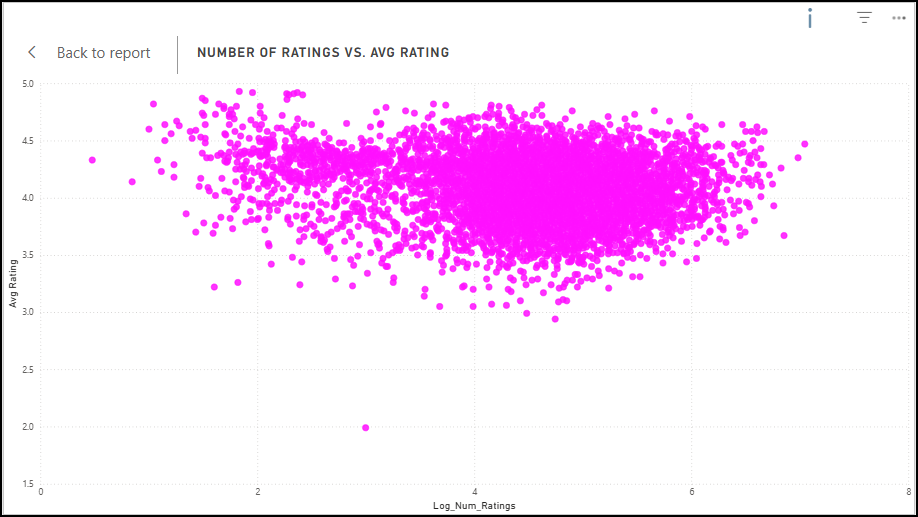

Layout of this report page (visuals, bound fields, positions):
{"tool":"powerbi","page":{"name":"Page 4","canvas":[1280,720],"ordinal":3},"visuals":[{"type":"scatterChart","title":"Number of Ratings vs. Avg Rating","fields":{"X":["goodreads_books_cleaned.Log_Num_Ratings"],"Y":["goodreads_books_cleaned.Avg Rating"]},"box":[10,0,280,280],"z":0}]}

Visuals, with their boxes on the page's 1280x720 design canvas (x1, y1, x2, y2). These are canvas units, not pixel positions in the 918x517 screenshot, which may show the page scaled, cropped or inside an application window:
"Number of Ratings vs. Avg Rating" scatterChart: rect(10, 0, 290, 280)
